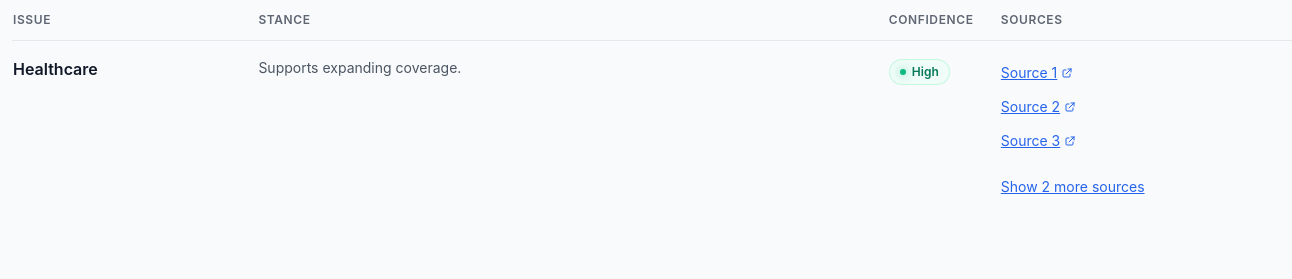
Scenario: IssueTable source expansion › keeps desktop and mobile expansion independent
Click the button "Show 2 more sources" at (1073, 187), box [1001,165,1144,209]
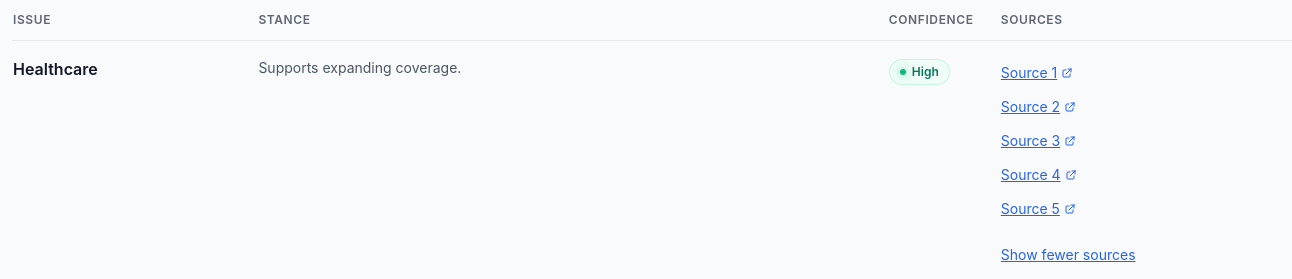
Now the number of links is 5, box [1001,64,1073,81]; [1001,98,1076,115]; [1001,132,1076,149]; [1001,166,1077,183]; [1001,200,1076,217]
